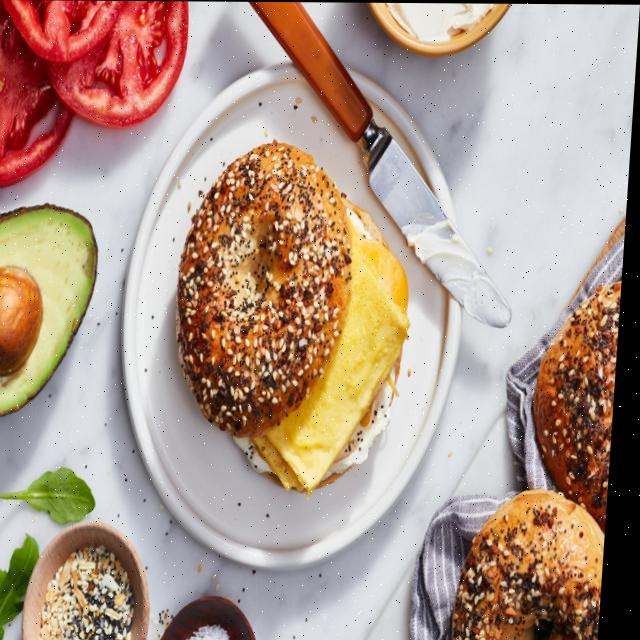Bagel: (181, 139, 354, 437), (460, 488, 612, 640)
